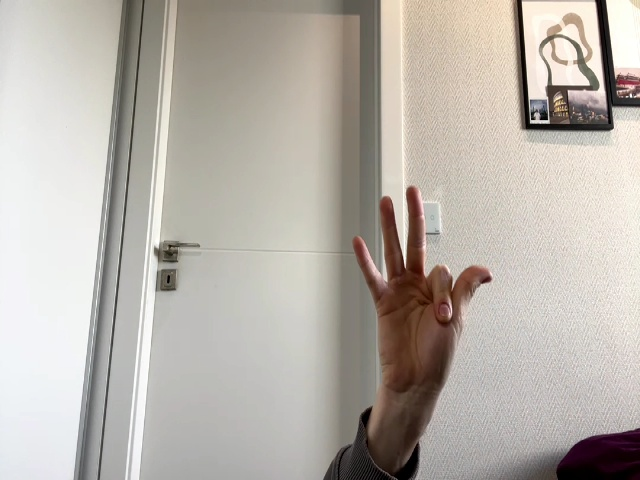F: (353, 186, 493, 389)
